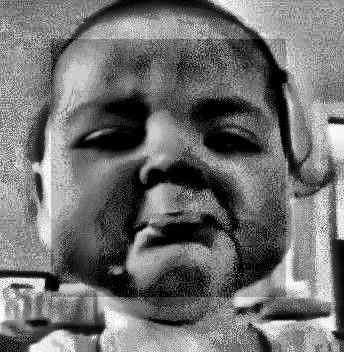sad: (52, 39, 287, 297)
